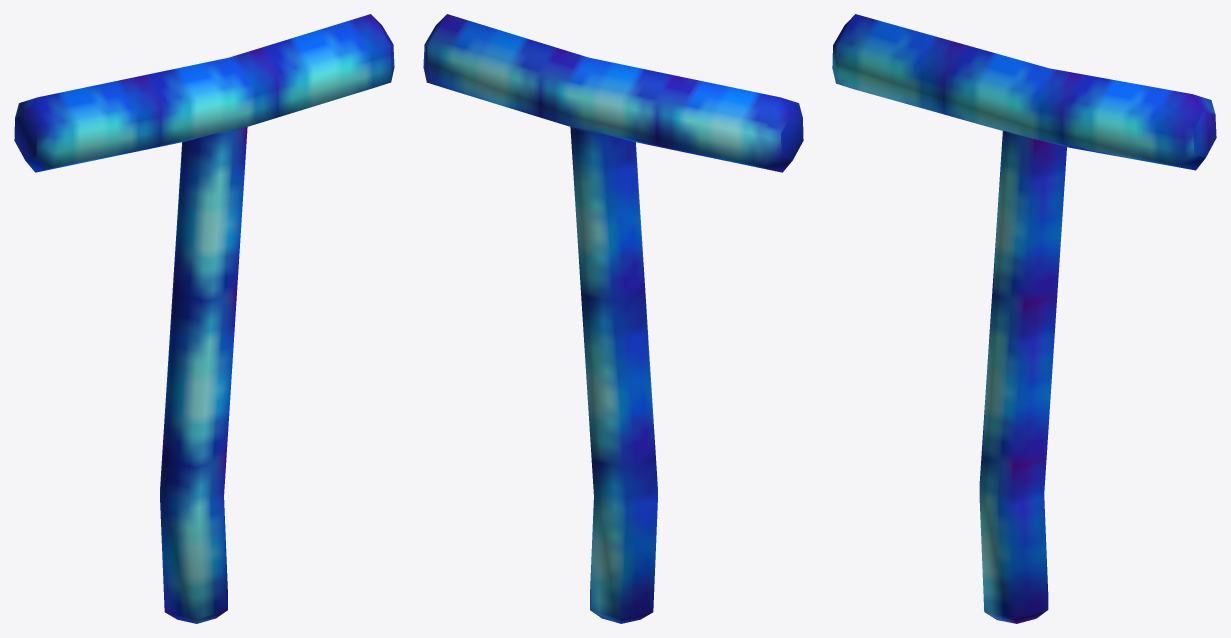
File: furni_0200177.FBX
The picture shows the model from 3 angles, left to right: view 1: azimuth 30°, elevation 25°; view 2: azimuth 150°, elevation 25°; view 3: azimuth 330°, elevation 25°; orthographic projection.
Visible parts, largest first — view 1: furni_0200177; view 2: furni_0200177; view 3: furni_0200177.
Boxes of the visible parts, x1,y1,x2,y2 form: furni_0200177: [14, 14, 394, 623]; furni_0200177: [423, 14, 803, 623]; furni_0200177: [832, 14, 1216, 623].
Size of the model in its own units: 33.95 by 50.49 by 5.86.
